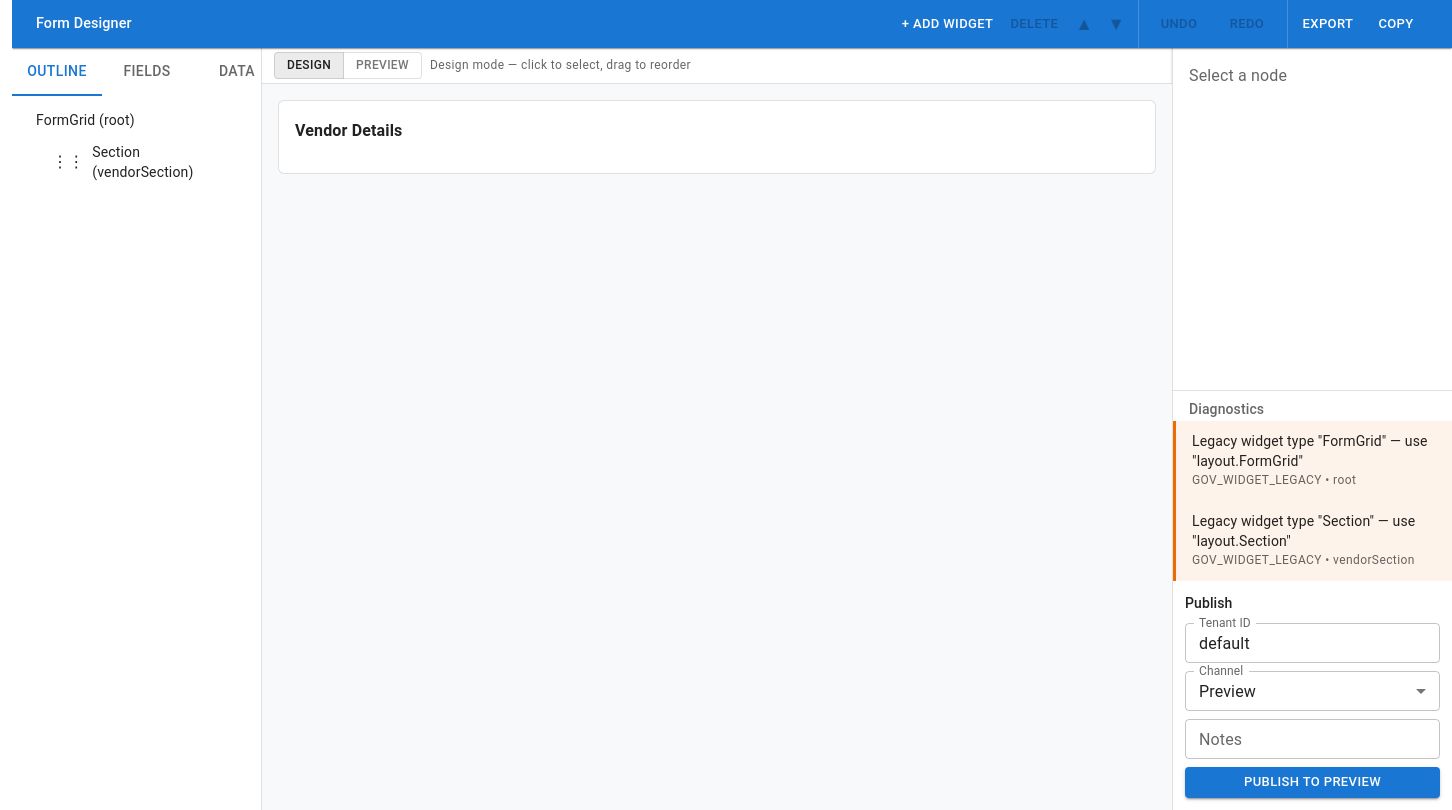
Test: Studio Domain Fields › Domain Fields tab shows Vendor entity fields when initialDomainModel provided
What coordinates should you click on to do the following:
click the tab with test id "tab-domain-fields"
I would click on:
 (147, 72)
Its box is [102,48,192,96].
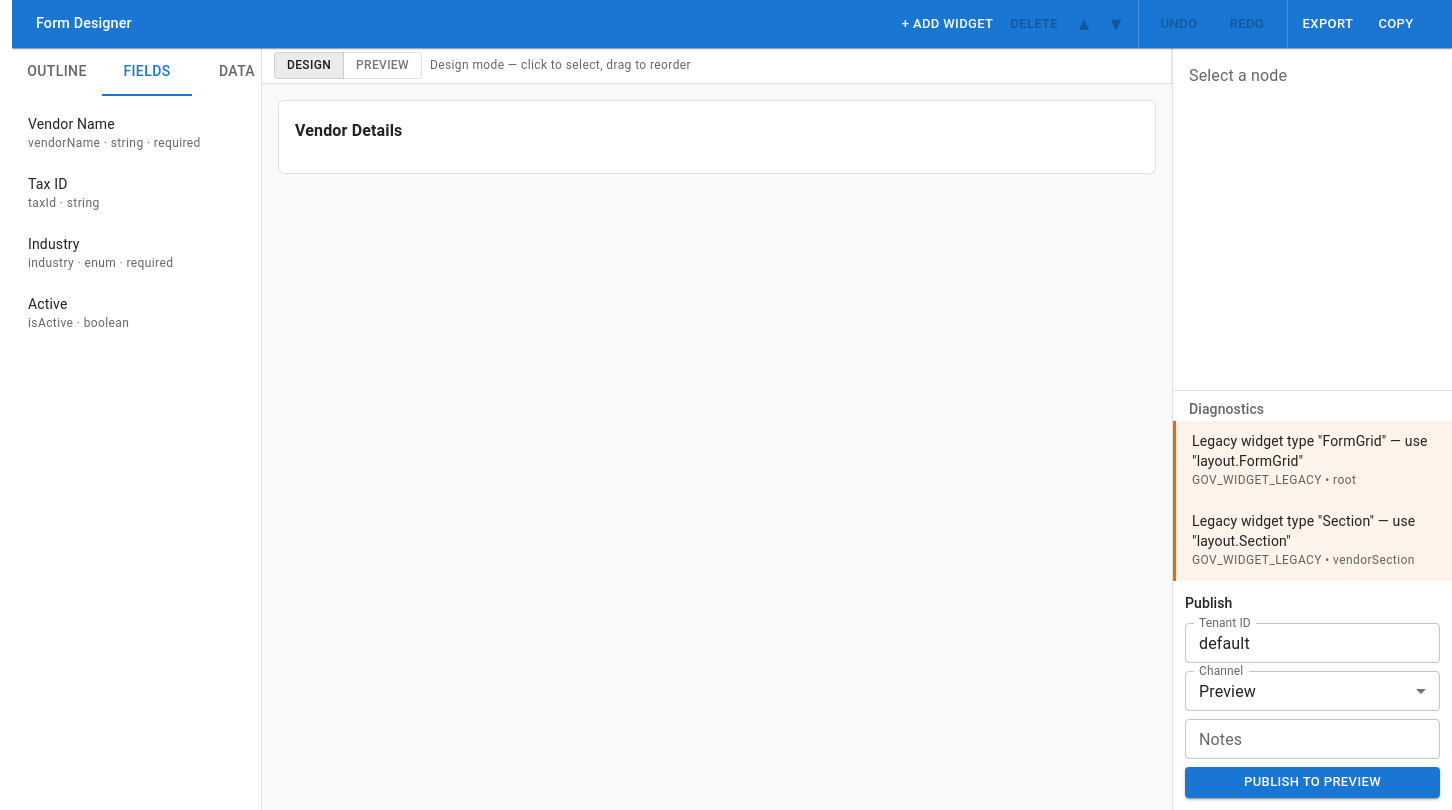
Check: the button with test id "domain-field-vendorName" is shown, box [28,116,201,150]
